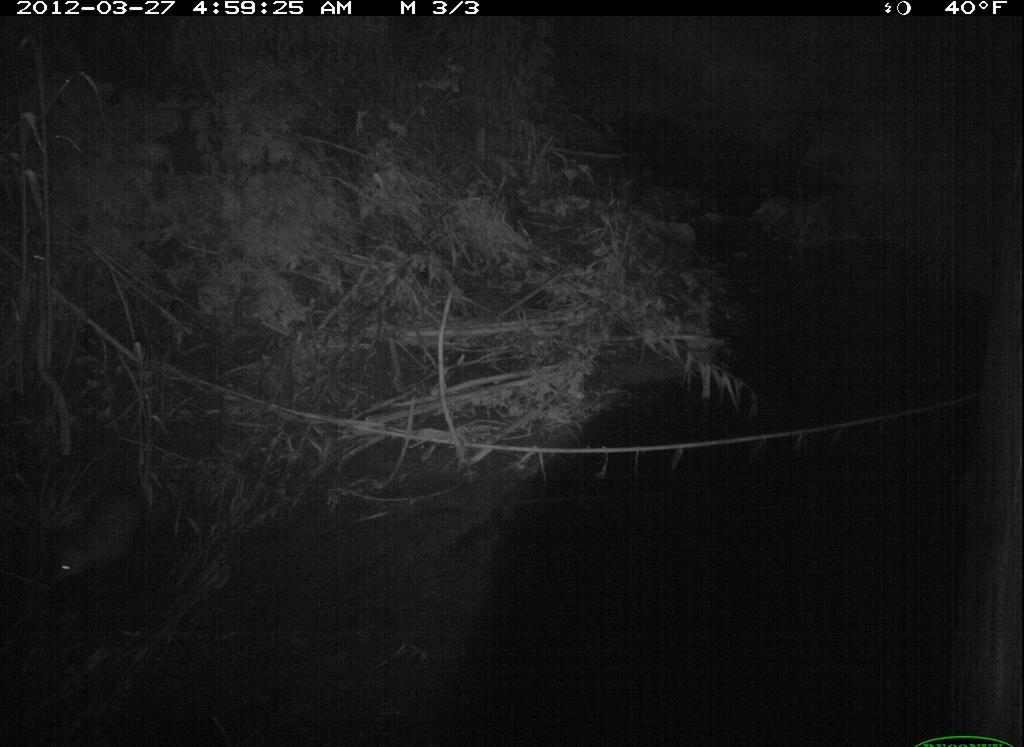opossum: (38, 472, 163, 615)
